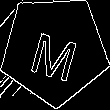M_N: (26, 19, 83, 80)
